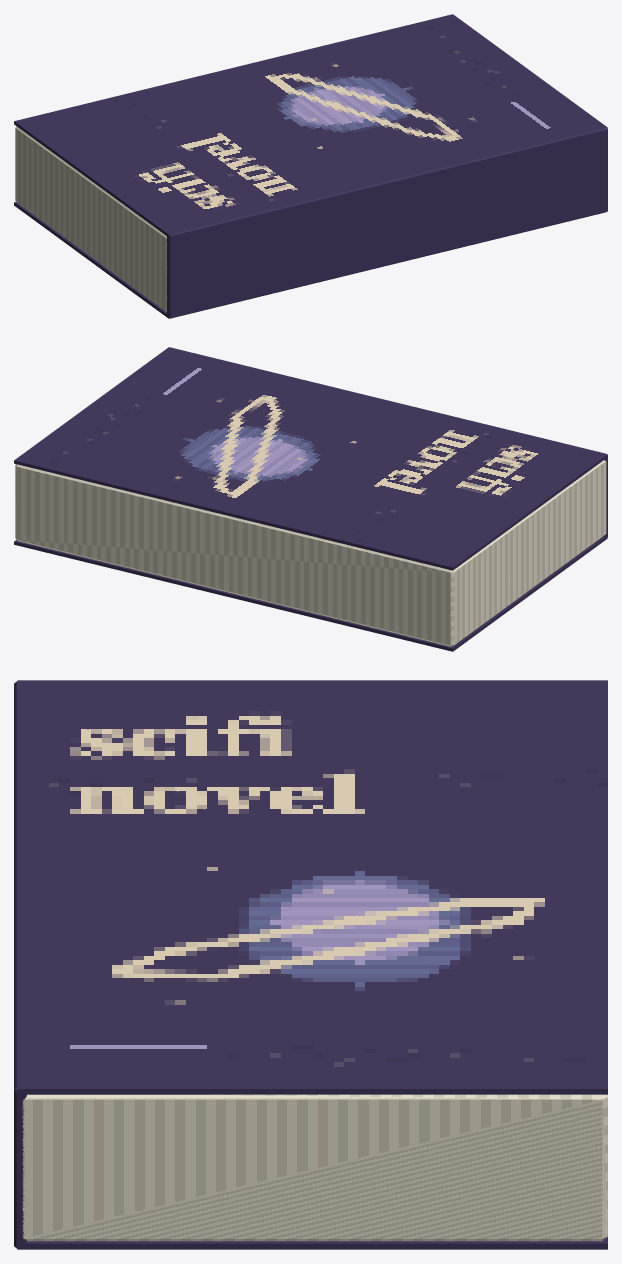
File: novel_scifi.glb
3 views of the same model, one above another, from view 1: azimuth 30°, elevation 25°; view 2: azimuth 150°, elevation 25°; view 3: azimuth 270°, elevation 25° (orthographic). The views are drawn at different scales.
Visible parts, largest first — view 1: block_front, block_spine, block_pages, block_back; view 2: block_front, block_pages, block_back, block_spine; view 3: block_front, block_pages, block_spine, block_back.
Part boxes in pixels (x1,y1,x2,y2): block_front: (14, 14, 607, 237); block_spine: (167, 128, 607, 318); block_pages: (15, 126, 167, 311); block_back: (14, 202, 607, 318); block_front: (14, 347, 607, 570); block_pages: (15, 460, 606, 646); block_back: (14, 536, 607, 651); block_spine: (168, 347, 607, 536); block_front: (17, 680, 607, 1094); block_pages: (22, 1094, 607, 1241); block_spine: (14, 681, 26, 1248); block_back: (17, 1237, 607, 1249).
Bounding box in the file's own units: 0.18 × 0.033 × 0.1106.
1 material, 1 textured.
